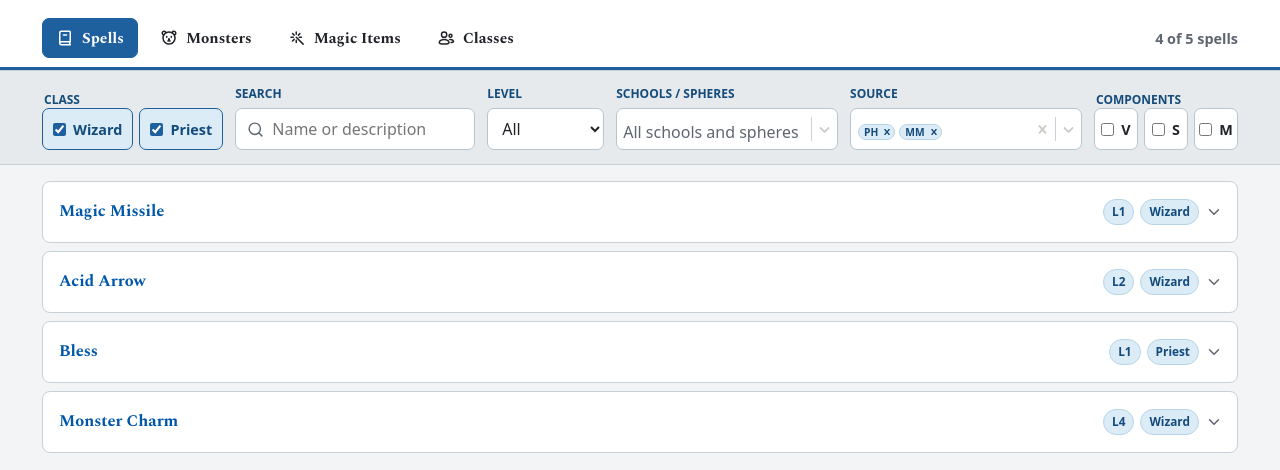
Test: App › filters spells by class checkboxes
Expected: the text "Magic Missile" is shown, [59,202,164,222]
Expected: the text "Bless" is shown, [59,342,98,362]
Click the checkbox labelled "Priest": [157, 129] box [150,122,163,136]
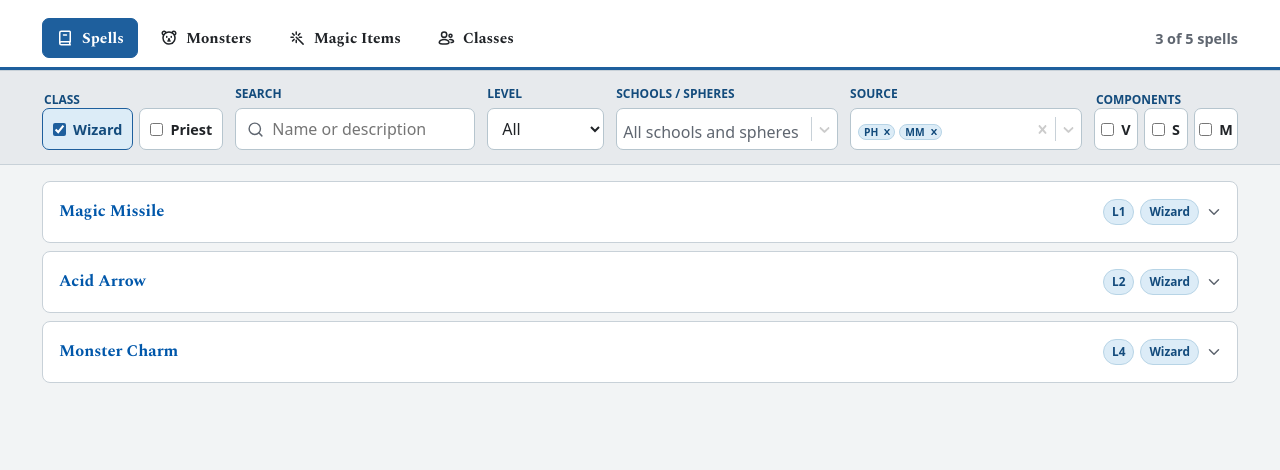
Expected: the text "Magic Missile" is shown, [59,202,164,222]
Expected: the button "Bless" is gone
Click the checkbox labelled "Wizard": [60, 129] box [53,122,66,136]
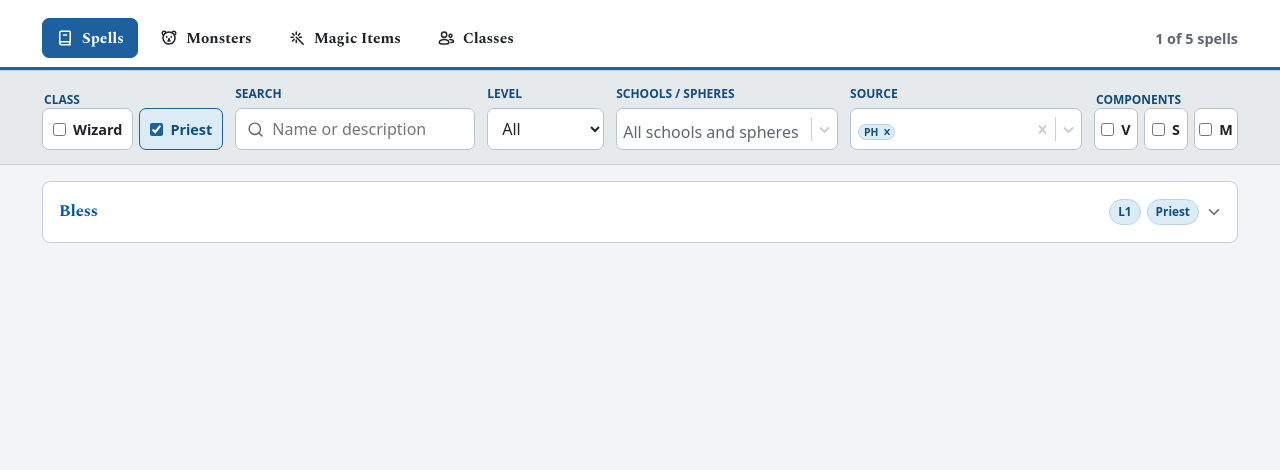
Expected: the checkbox labelled "Priest" is checked, [150,122,163,136]
Expected: the text "Bless" is shown, [59,202,98,222]
Expected: the button "Magic Missile" is gone
